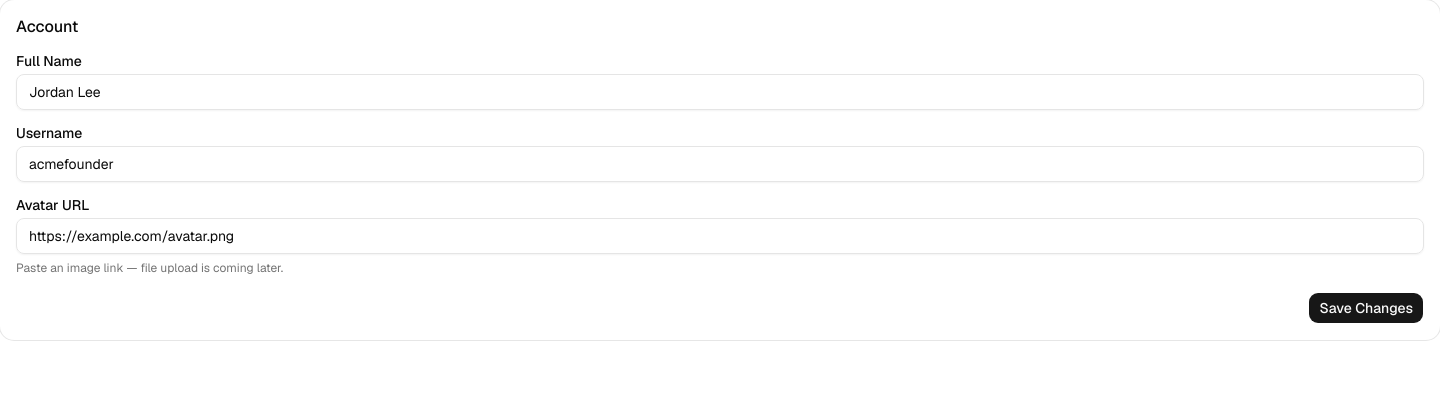
IndustryAccountSettingsForm › shows an error when updateProfile fails
Click the button "Save Changes". click: (1366, 308)
box: x1=1308 y1=292 x2=1424 y2=324
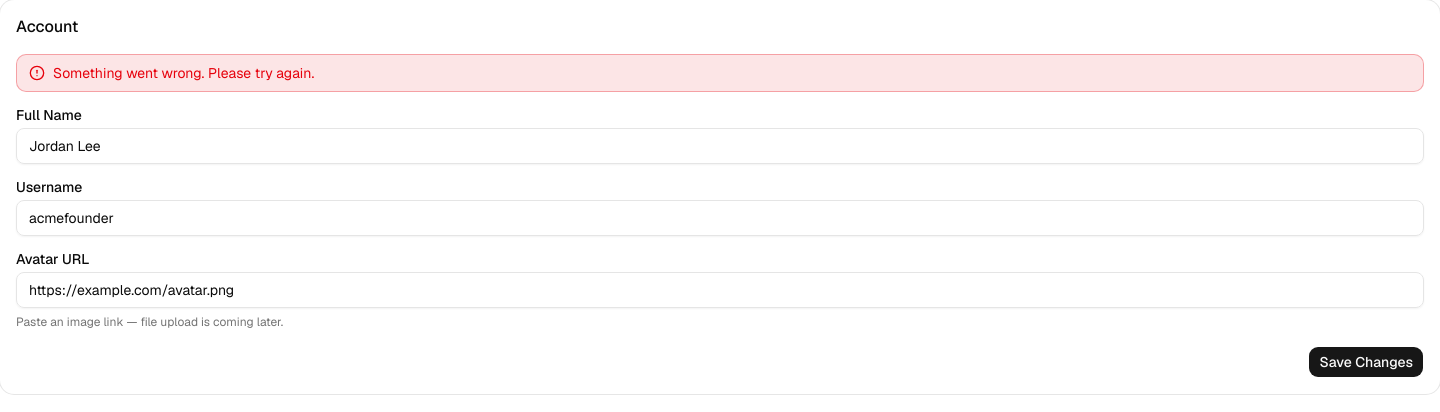
Check: the text "Something went wrong. Please try again." is shown, box x1=53 y1=63 x2=314 y2=83
